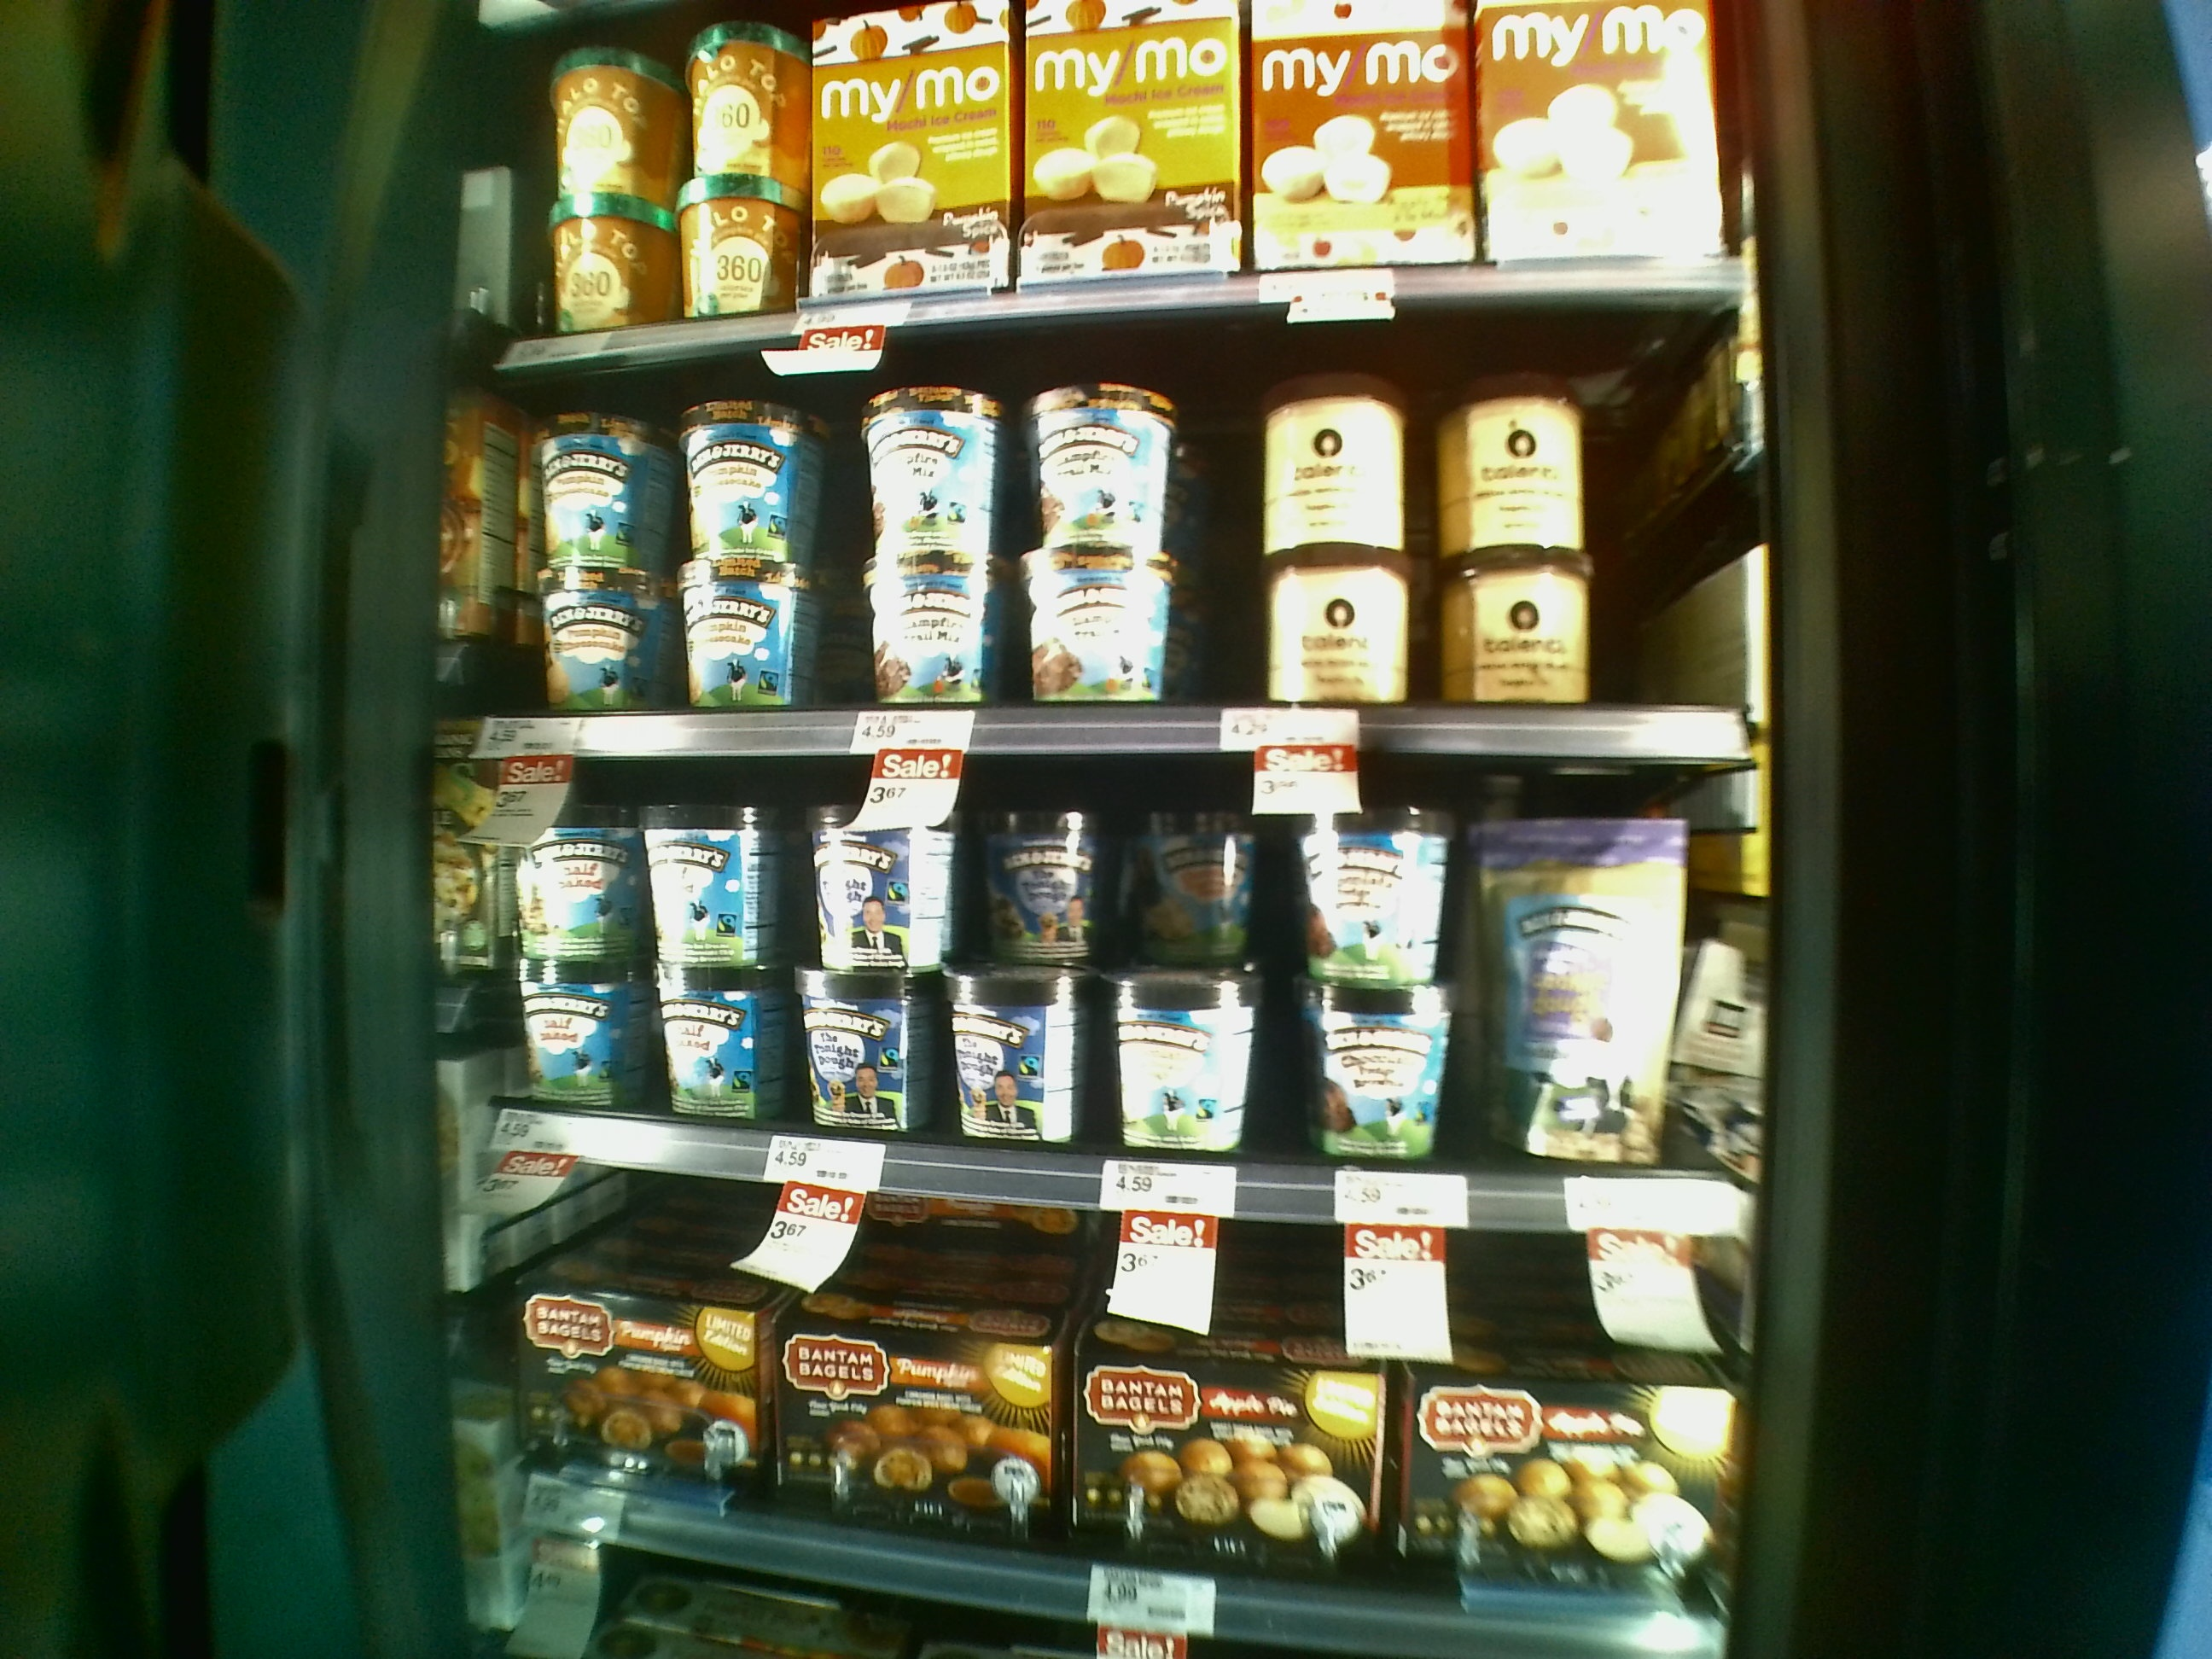shelf: (472, 735, 1742, 1236), (495, 331, 1743, 753)
